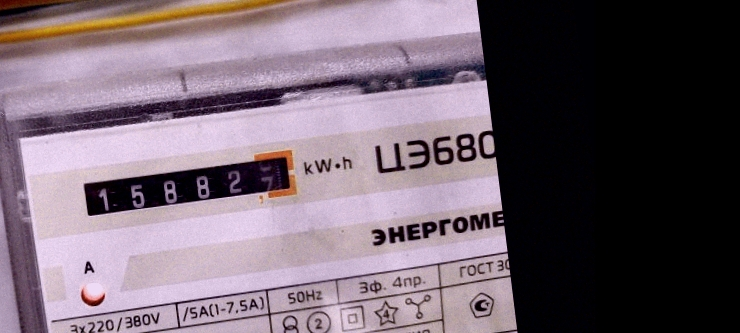1: (94, 183, 111, 213)
2: (224, 166, 243, 196)
5: (126, 180, 147, 209)
7: (257, 172, 275, 191)
8: (159, 176, 178, 206), (192, 171, 211, 200)
screen: (67, 139, 308, 230)
